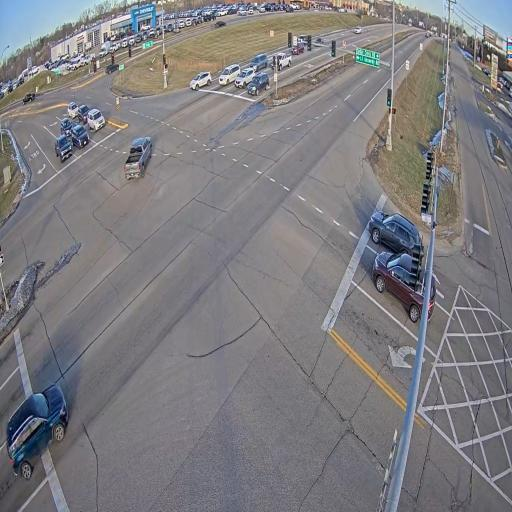pickup: (124, 137, 152, 179), (55, 135, 72, 163), (271, 52, 291, 71), (22, 92, 34, 104)
sedan: (215, 21, 226, 27)
suv: (6, 384, 68, 479), (372, 251, 426, 322), (368, 211, 420, 255), (247, 72, 270, 95), (71, 125, 89, 149), (235, 68, 255, 88), (190, 72, 211, 90), (428, 279, 436, 320), (77, 104, 89, 124), (68, 102, 78, 119), (292, 42, 304, 55), (105, 63, 119, 73), (354, 26, 361, 34)
van: (219, 64, 240, 84), (87, 109, 105, 132), (249, 54, 267, 73), (60, 118, 73, 137)
